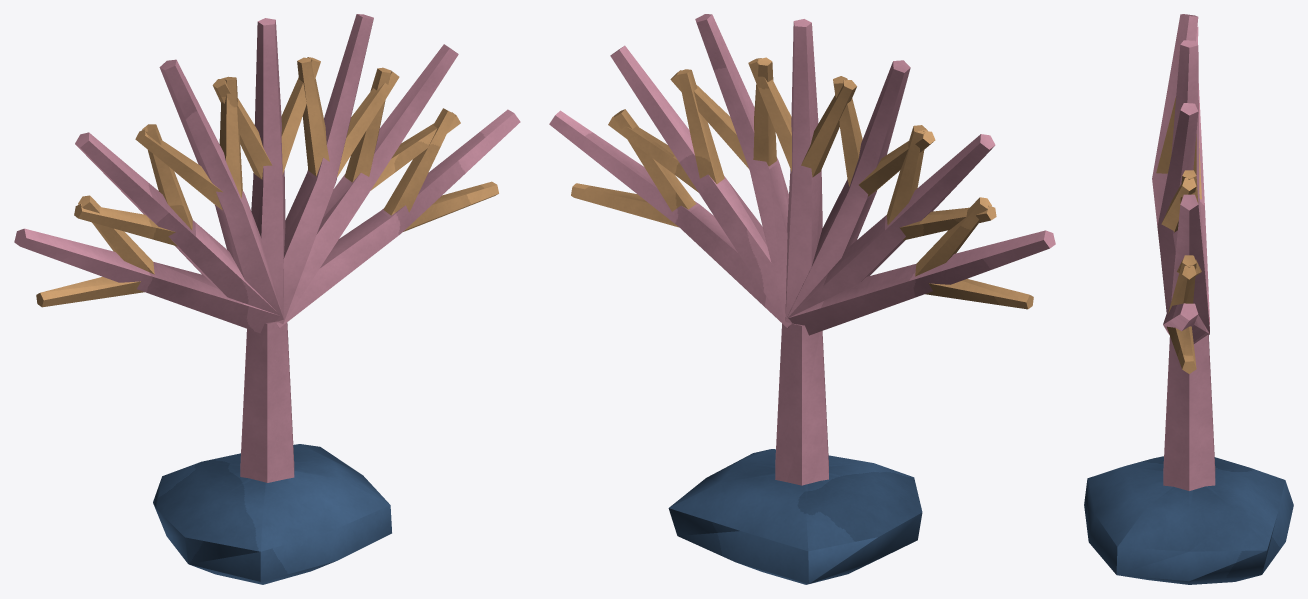
Rendered from branching_fan.glb.
The picture shows the model from 3 angles, left to right: view 1: azimuth 30°, elevation 25°; view 2: azimuth 150°, elevation 25°; view 3: azimuth 270°, elevation 25°; orthographic projection. The views are drawn at different scales.
Parts seen in each view (by area): view 1: DL006_BranchingFan_coral_pink, DL006_BranchingFan_shadow_blue, DL006_BranchingFan_coral_orange; view 2: DL006_BranchingFan_coral_pink, DL006_BranchingFan_shadow_blue, DL006_BranchingFan_coral_orange; view 3: DL006_BranchingFan_shadow_blue, DL006_BranchingFan_coral_pink, DL006_BranchingFan_coral_orange.
Boxes of the visible parts, x1,y1,x2,y2 form: DL006_BranchingFan_coral_pink: (14,14,520,482); DL006_BranchingFan_shadow_blue: (153,444,391,584); DL006_BranchingFan_coral_orange: (36,57,498,307); DL006_BranchingFan_coral_pink: (549,14,1055,485); DL006_BranchingFan_shadow_blue: (668,449,922,584); DL006_BranchingFan_coral_orange: (571,57,1033,309); DL006_BranchingFan_shadow_blue: (1084,456,1293,584); DL006_BranchingFan_coral_pink: (1152,14,1215,490); DL006_BranchingFan_coral_orange: (1156,96,1201,373).
Size of the model in its own units: 2.06 by 2.11 by 0.7704.
Materials: 3 (3 with a texture image).
